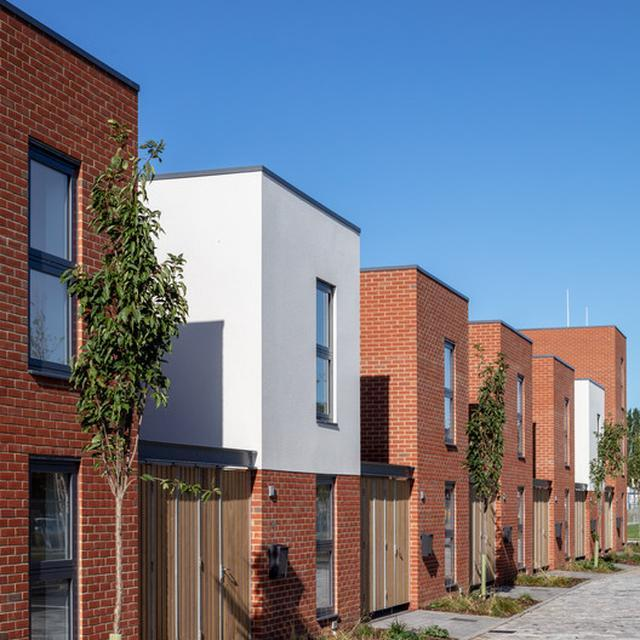building: (147, 169, 363, 637), (1, 1, 143, 640), (363, 263, 470, 610), (520, 324, 628, 552), (471, 316, 534, 578), (534, 354, 574, 567), (578, 376, 606, 564)
